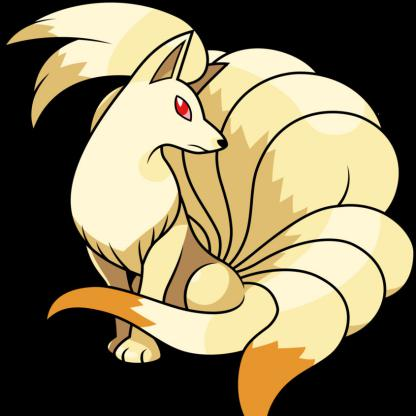Ninetales: (7, 5, 416, 416)
